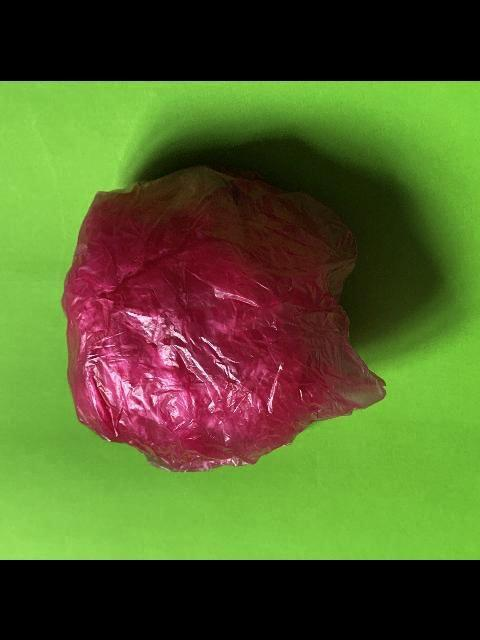plasticbag: (58, 162, 388, 472)
